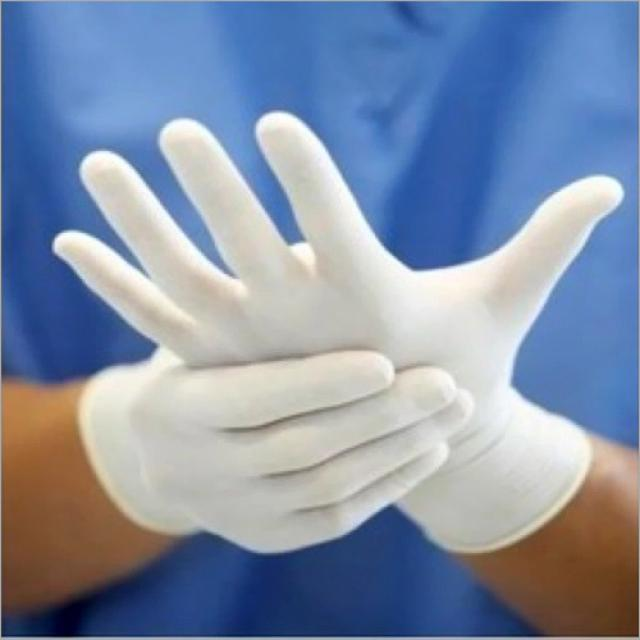Gloves: (49, 103, 634, 557), (71, 326, 474, 573)
